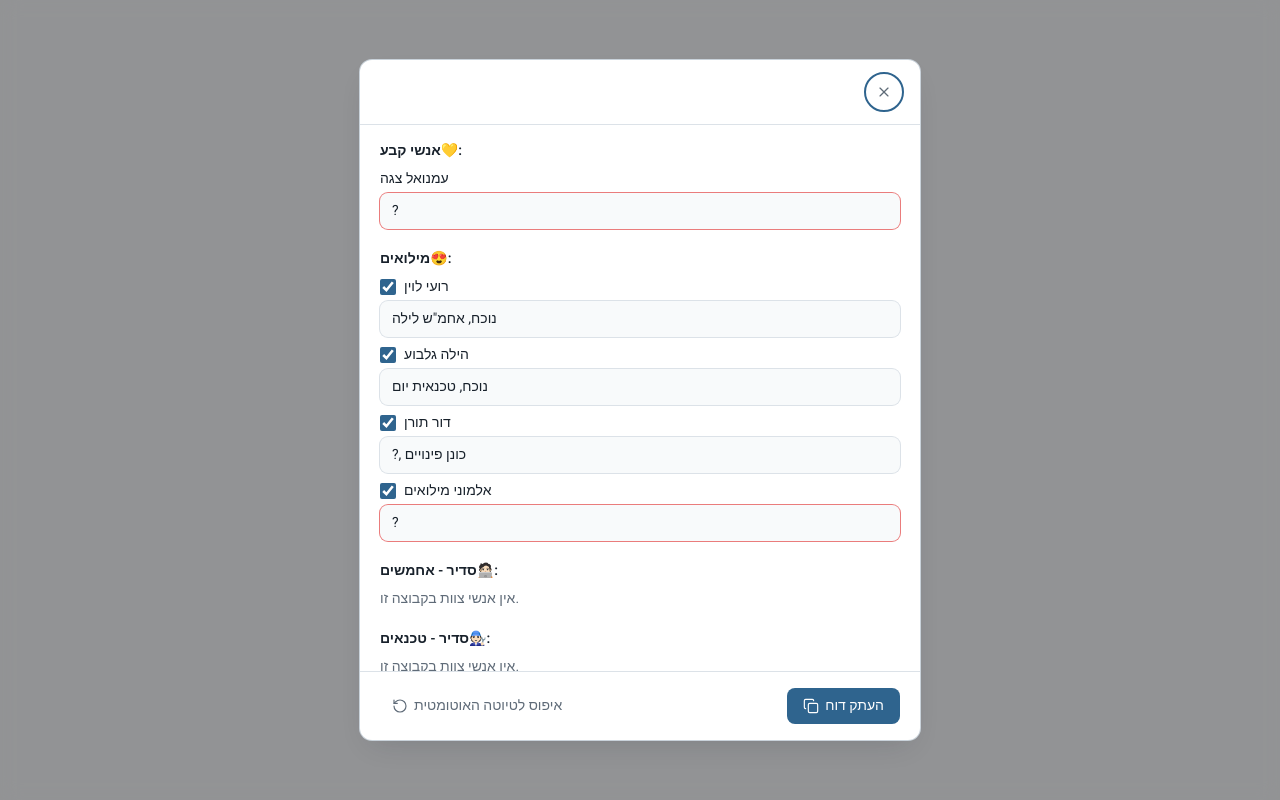
Test: ReportOneEditorOverlay — reserve inclusion checkbox › 10. unchecking a reserve person with an additive duty (כונן פינויים) requires confirmation before persisting
Click the checkbox named "כלול בדוח 1: דור תורן". click: (388, 423)
box: [380,415,396,431]
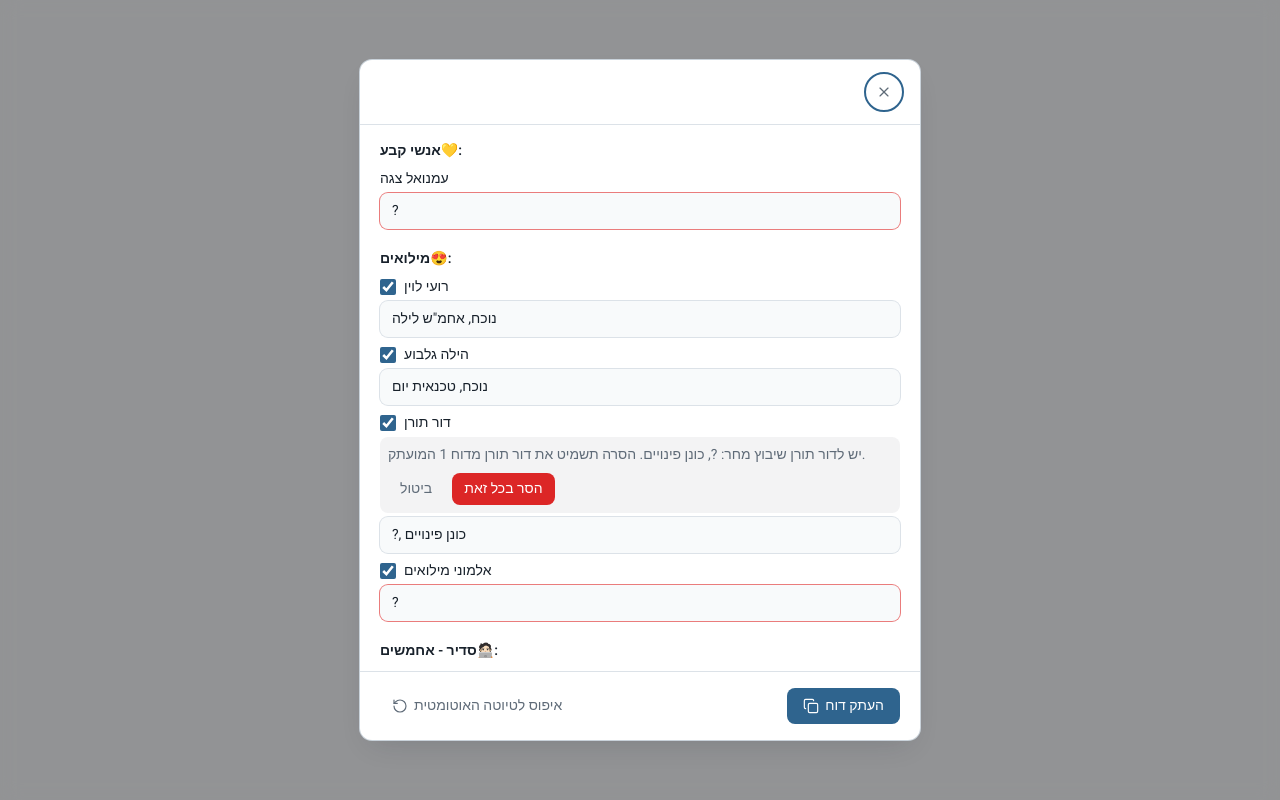
Result: the button "הסר בכל זאת" is shown at [452,473,554,505]
